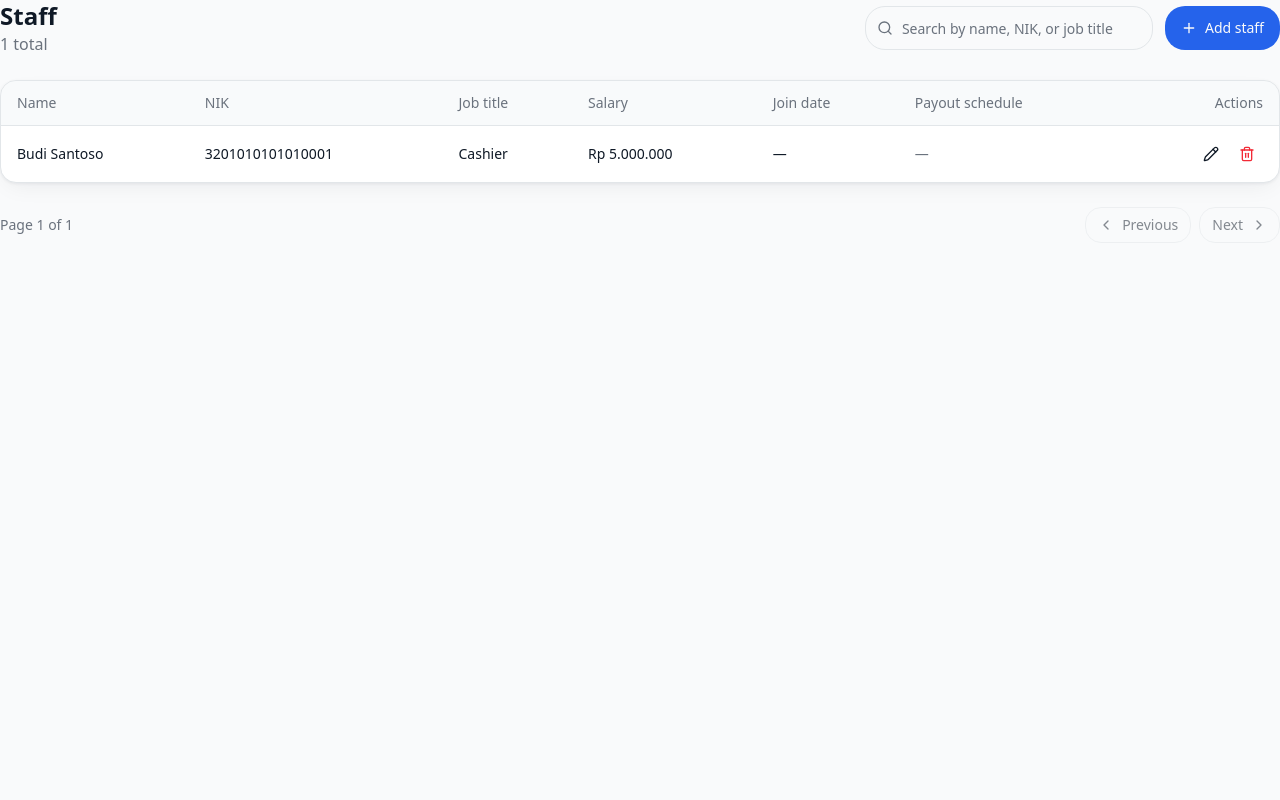
it: AdminStaffPage › opens edit dialog when Add staff is clicked
This screenshot has width=1280, height=800.
Expected: the text "Budi Santoso" is shown, [1,126,189,182]
Click the button "Add staff": {"x": 1222, "y": 28} [1165,6,1279,50]
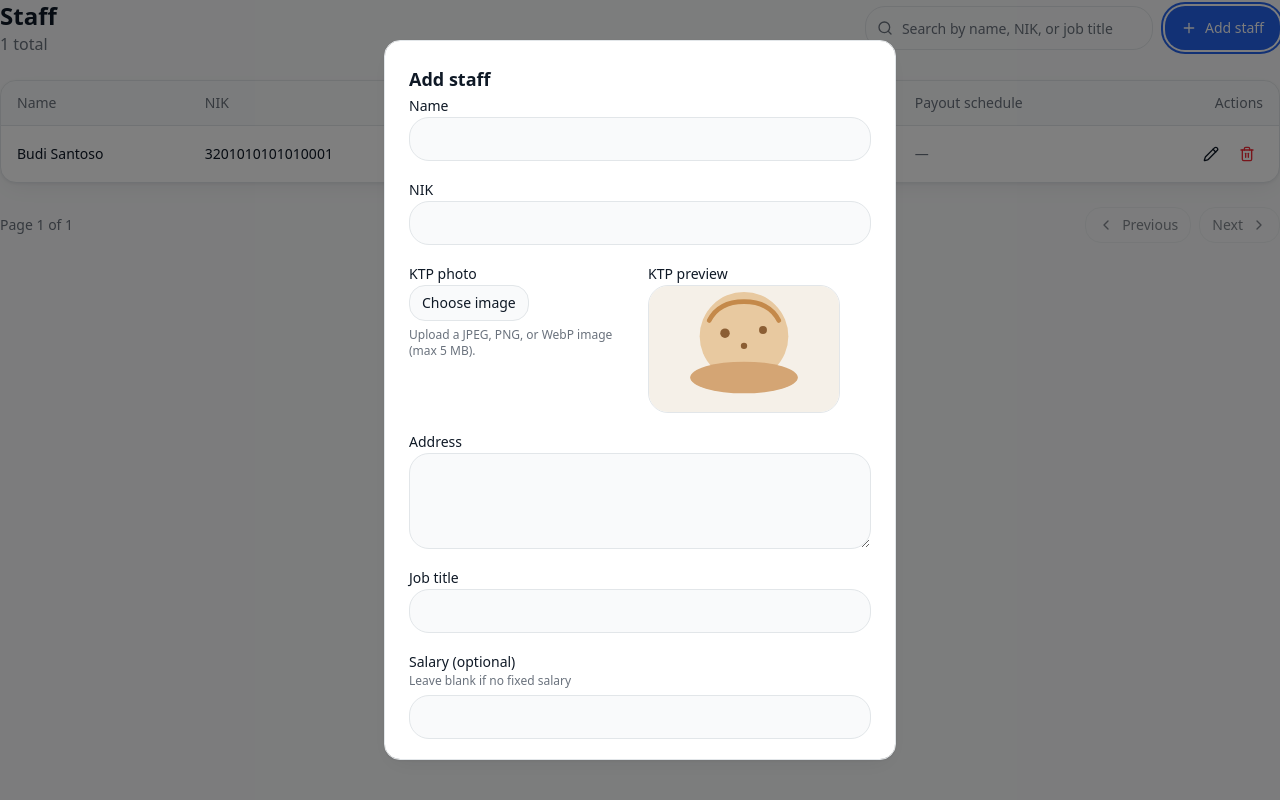
Expected: the dialog is shown, [384,40,896,760]
Expected: the heading "Add staff" is shown, [409,67,490,91]
Expected: the field labelled "Name" is shown, [409,117,871,161]
